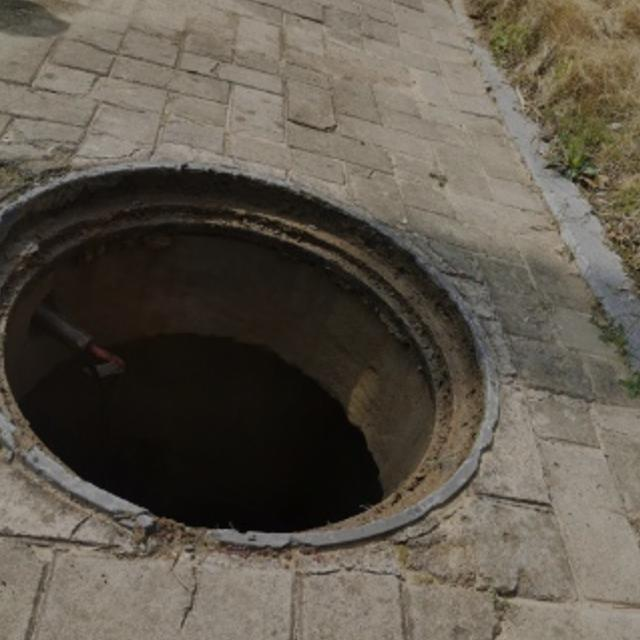lose: (0, 157, 503, 555)
